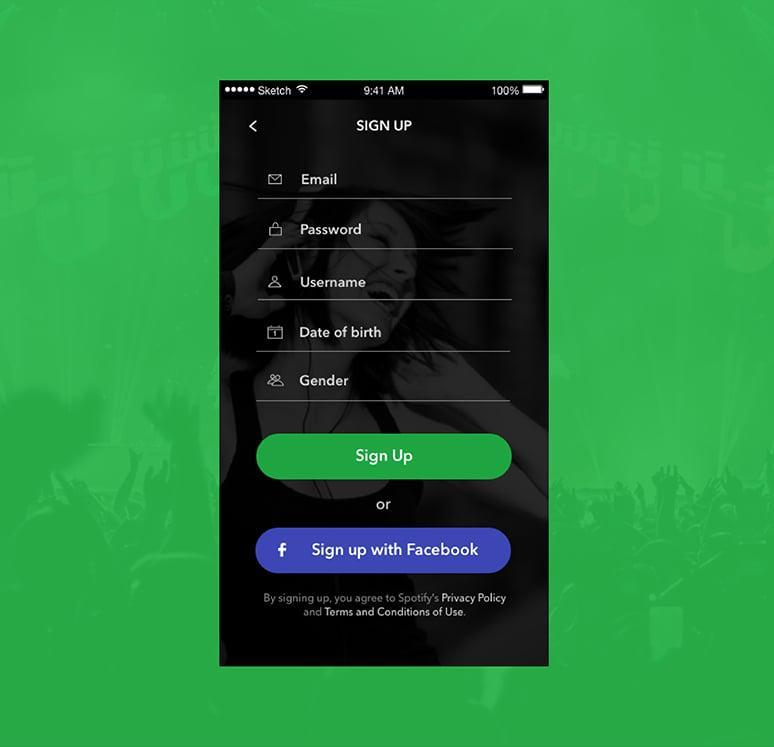button: (258, 434, 515, 483), (256, 527, 511, 576)
icon: (267, 370, 290, 390), (249, 116, 265, 139), (268, 219, 284, 240), (268, 324, 287, 341), (268, 274, 284, 294), (267, 171, 285, 187)
